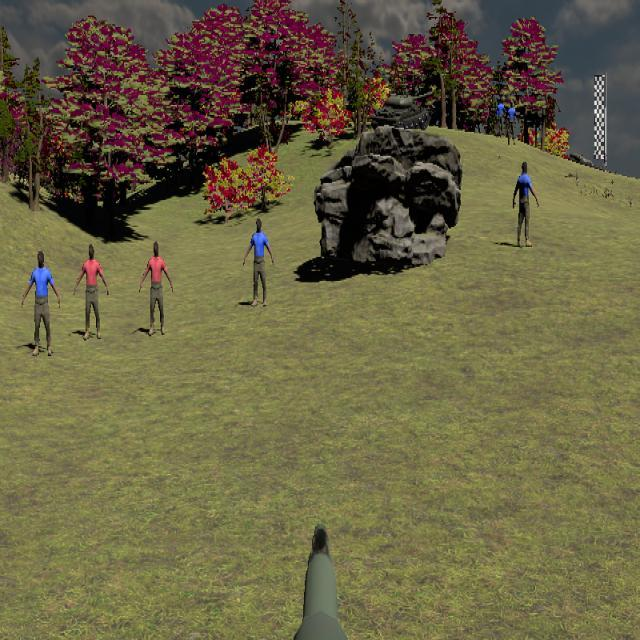Human: (21, 251, 61, 357), (73, 244, 109, 340), (138, 241, 173, 336), (242, 218, 274, 307), (513, 161, 539, 248)
Tank: (370, 91, 434, 131)
